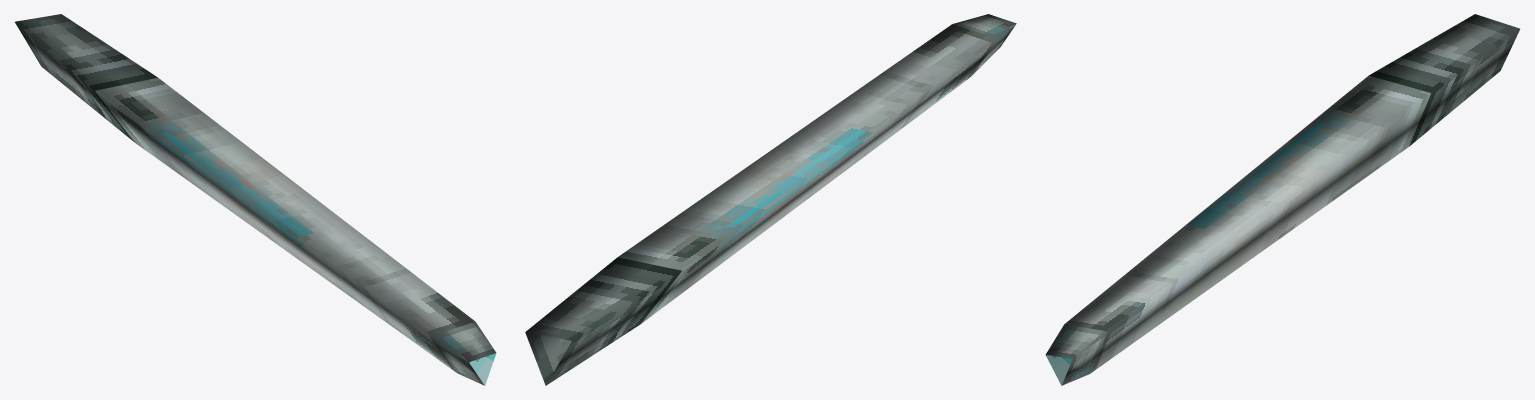
Rendered from bwing_weapon2l_s02_l3.fbx.
3 renders of one model, left to right at view 1: azimuth 30°, elevation 25°; view 2: azimuth 150°, elevation 25°; view 3: azimuth 330°, elevation 25°, orthographic. The views are drawn at different scales.
Visible parts, largest first — view 1: mesh_node; view 2: mesh_node; view 3: mesh_node.
Part boxes in pixels (x1,y1,x2,y2): mesh_node: (15,14,496,385); mesh_node: (525,14,1016,385); mesh_node: (1045,14,1519,385).
Size of the model in its own units: 0.224 by 0.2103 by 2.72.
1 material, 1 textured.
